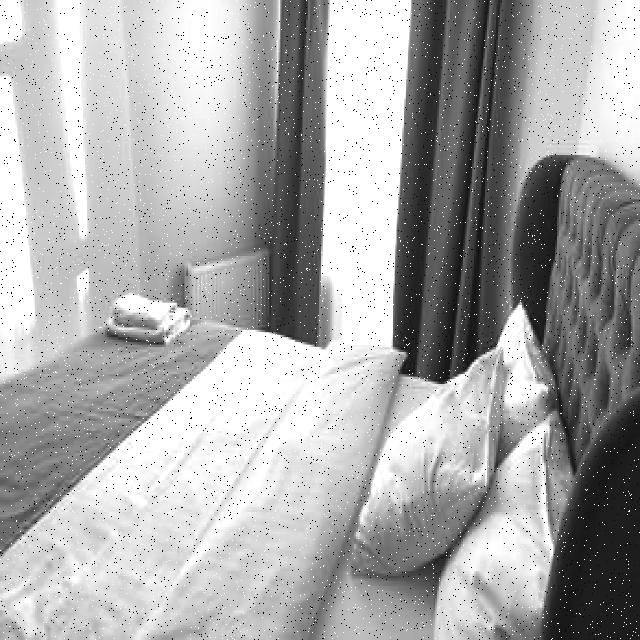bed: (0, 289, 576, 640)
